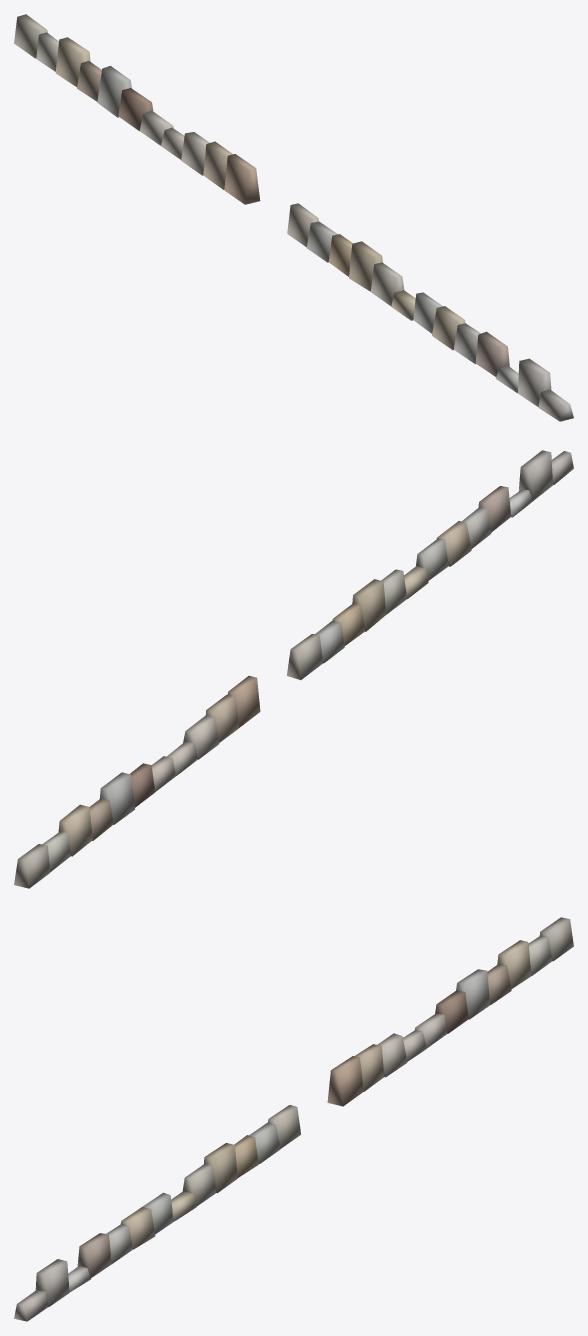
The model's file is farm_25_32_far.glb.
3 views of the same model, one above another, from view 1: azimuth 30°, elevation 25°; view 2: azimuth 150°, elevation 25°; view 3: azimuth 330°, elevation 25° (orthographic).
Visible parts, largest first — view 1: geometry_0; view 2: geometry_0; view 3: geometry_0.
Part boxes in pixels (x1=…): geometry_0: x1=14, y1=14, x2=573, y2=421; geometry_0: x1=14, y1=450, x2=573, y2=888; geometry_0: x1=14, y1=917, x2=573, y2=1321.
Size of the model in its own units: 0.8304 by 2.2 by 40.79.
